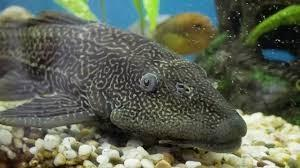Janitor Fish: (0, 10, 249, 156)
